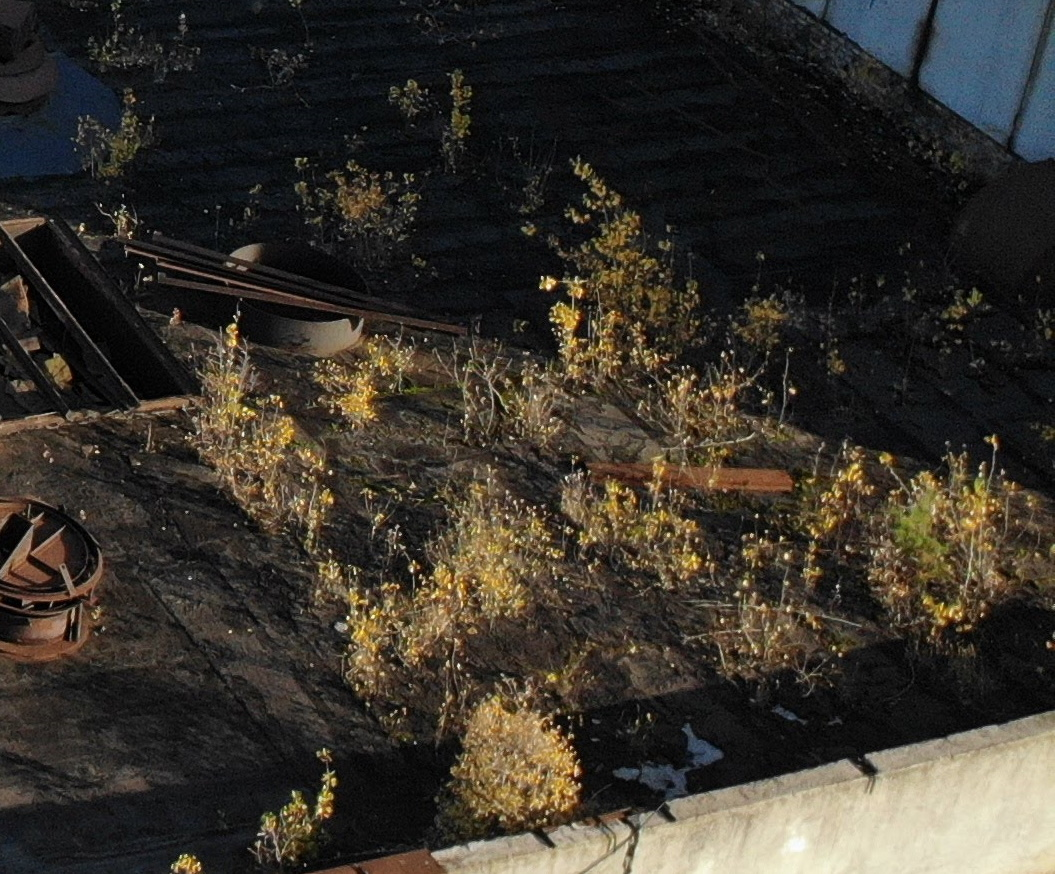tree: (856, 425, 1014, 636), (564, 166, 687, 402), (409, 477, 569, 657), (437, 691, 603, 844), (294, 138, 422, 311), (436, 337, 574, 470), (662, 342, 766, 504), (595, 473, 707, 608), (736, 258, 846, 392), (736, 570, 834, 709), (243, 403, 327, 556), (250, 743, 342, 867), (189, 317, 263, 469), (335, 342, 420, 464), (88, 85, 162, 201), (428, 74, 495, 184), (330, 592, 398, 696)
